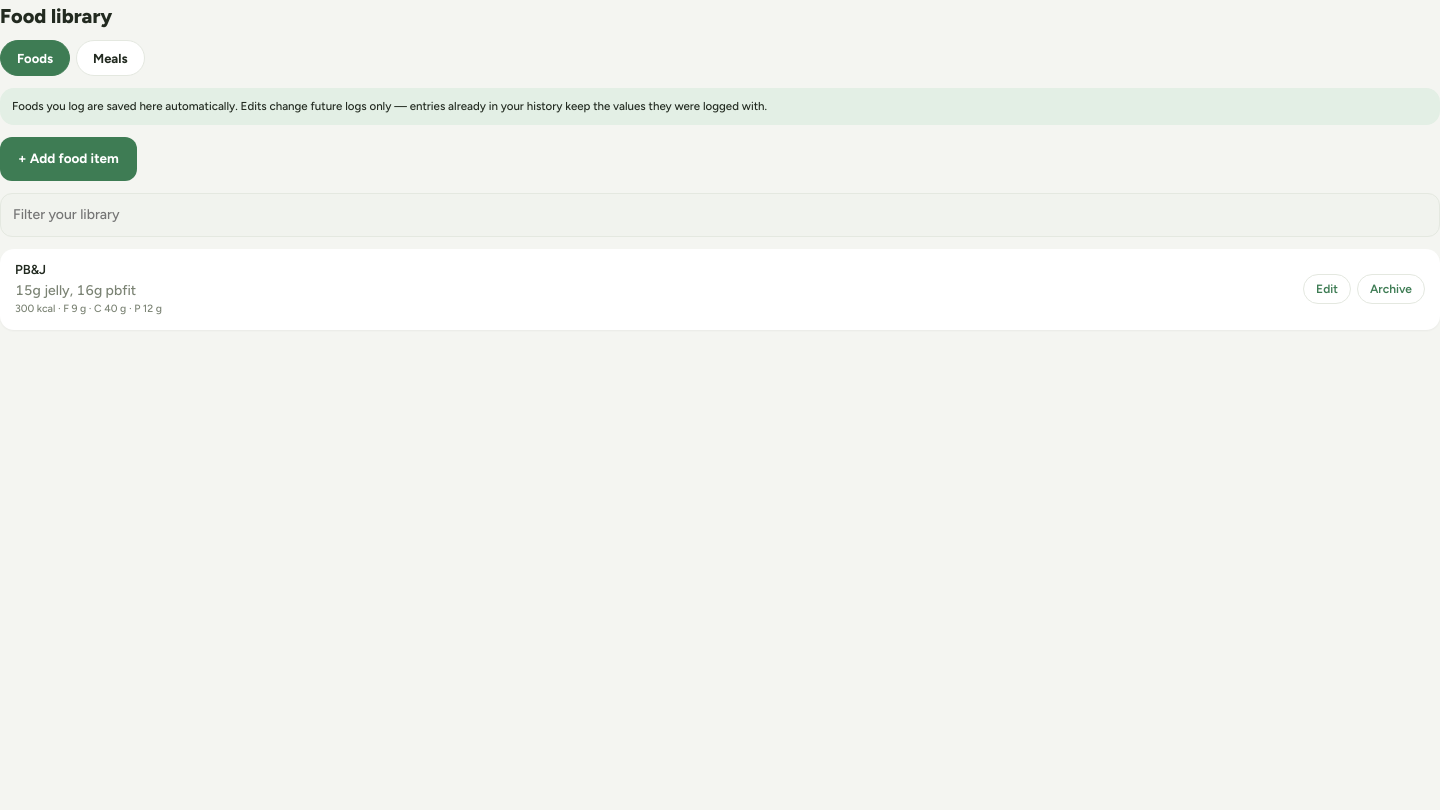
Test case: FoodsScreen save as new food › carries the untouched fields of the original onto the fork
This screenshot has width=1440, height=810.
Click the button "Edit": (1327, 289) x1=1303 y1=274 x2=1351 y2=304
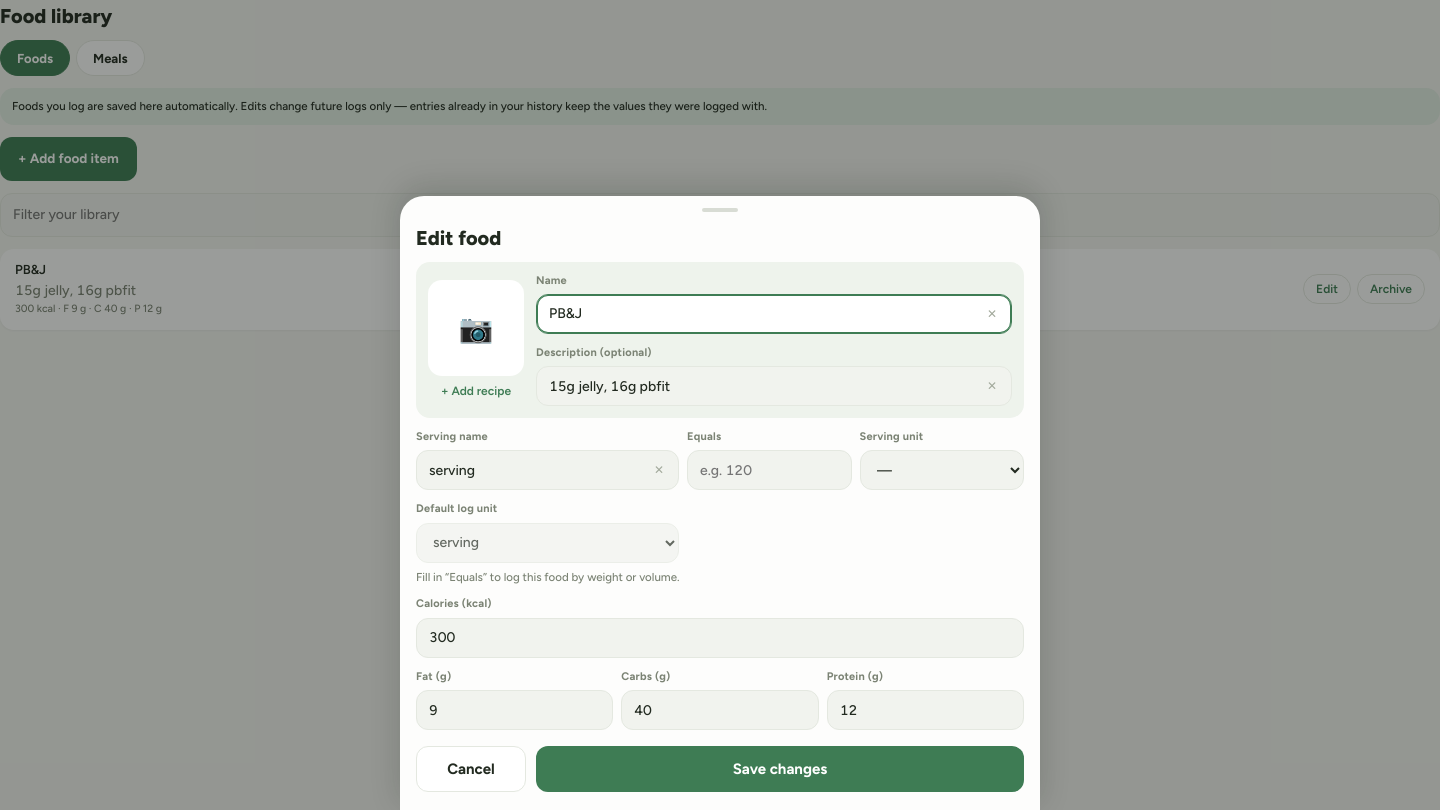
Replace the text in the field labelled "Name" with "PB&J (crunchy)": (774, 314) x1=536 y1=294 x2=1012 y2=334
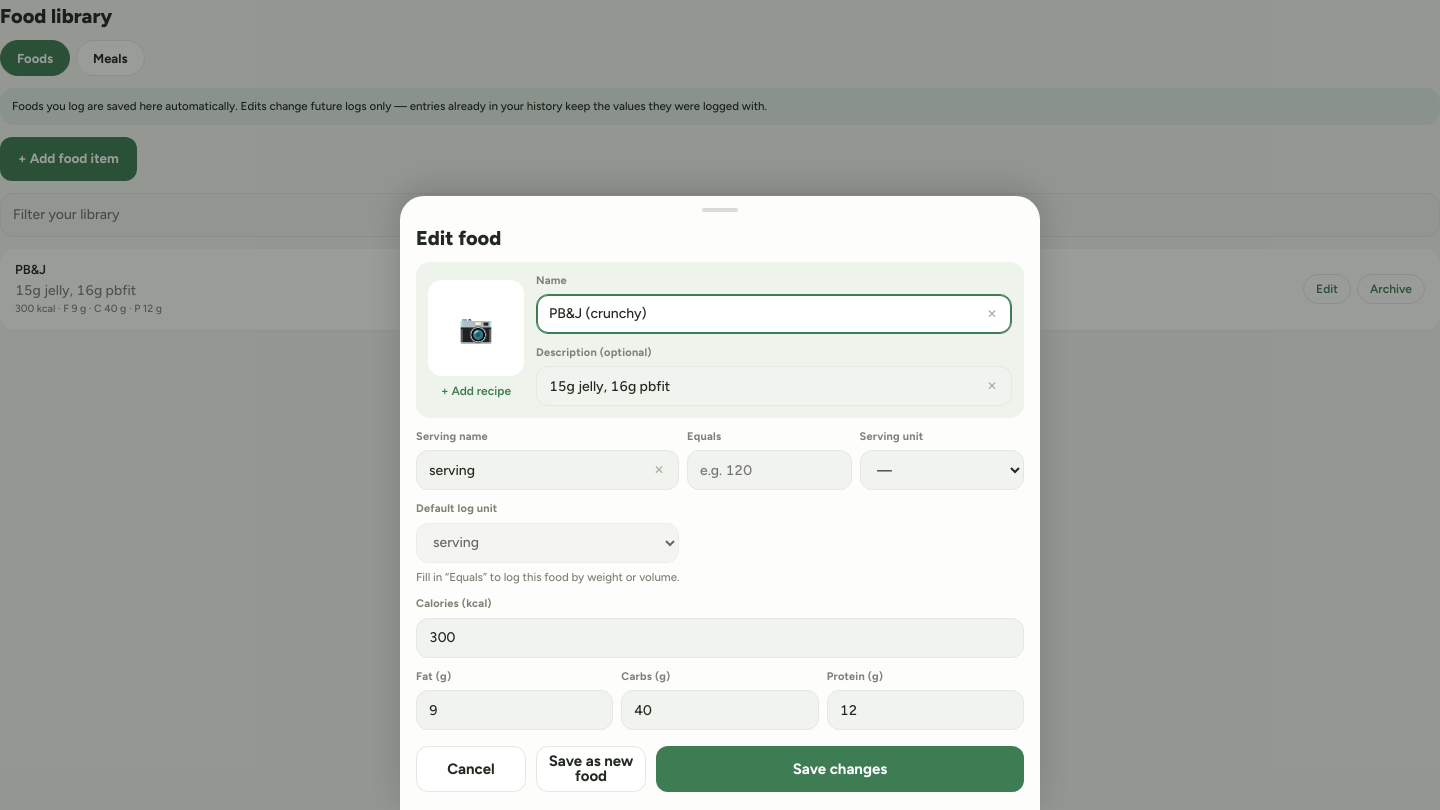
Click the button "Save as new food": (591, 769) x1=536 y1=746 x2=646 y2=792
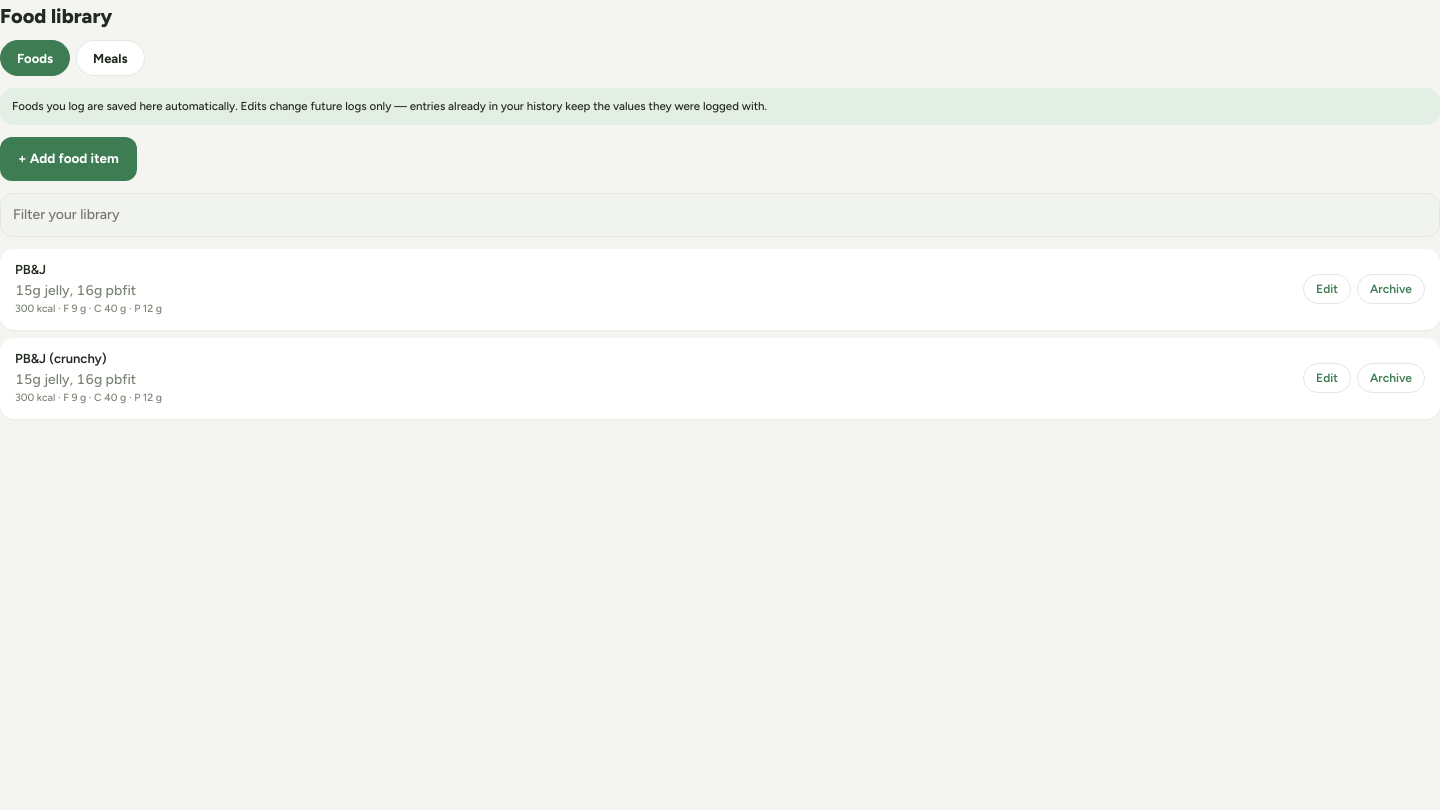
Result: the text "PB&J (crunchy)" is shown at x1=15 y1=351 x2=107 y2=368
